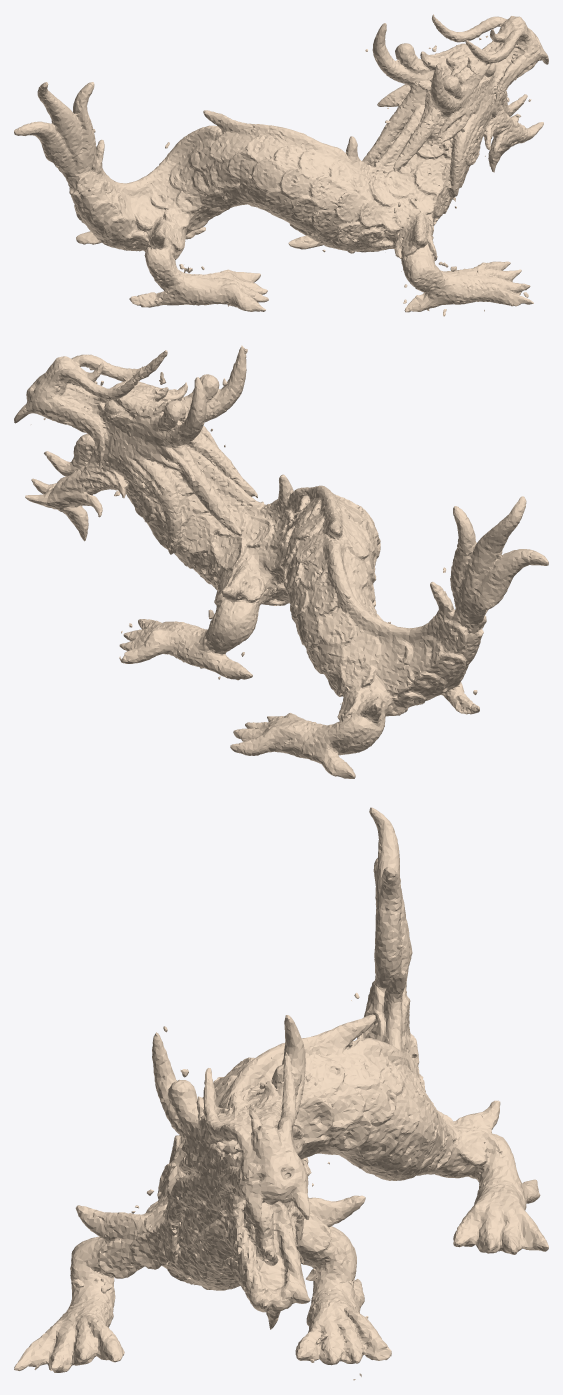
Rendered from dragon_gauss.glb.
3 views of the same model, one above another, from view 1: azimuth 30°, elevation 25°; view 2: azimuth 150°, elevation 25°; view 3: azimuth 270°, elevation 25° (orthographic). The views are drawn at different scales.
Visible parts, largest first — view 1: world; view 2: world; view 3: world.
Boxes of the visible parts, bbox=[...] form: world: bbox=[14, 14, 548, 316]; world: bbox=[14, 345, 548, 778]; world: bbox=[14, 807, 548, 1380].
Size of the model in its own units: 0.9982 by 0.4596 by 0.6633.
